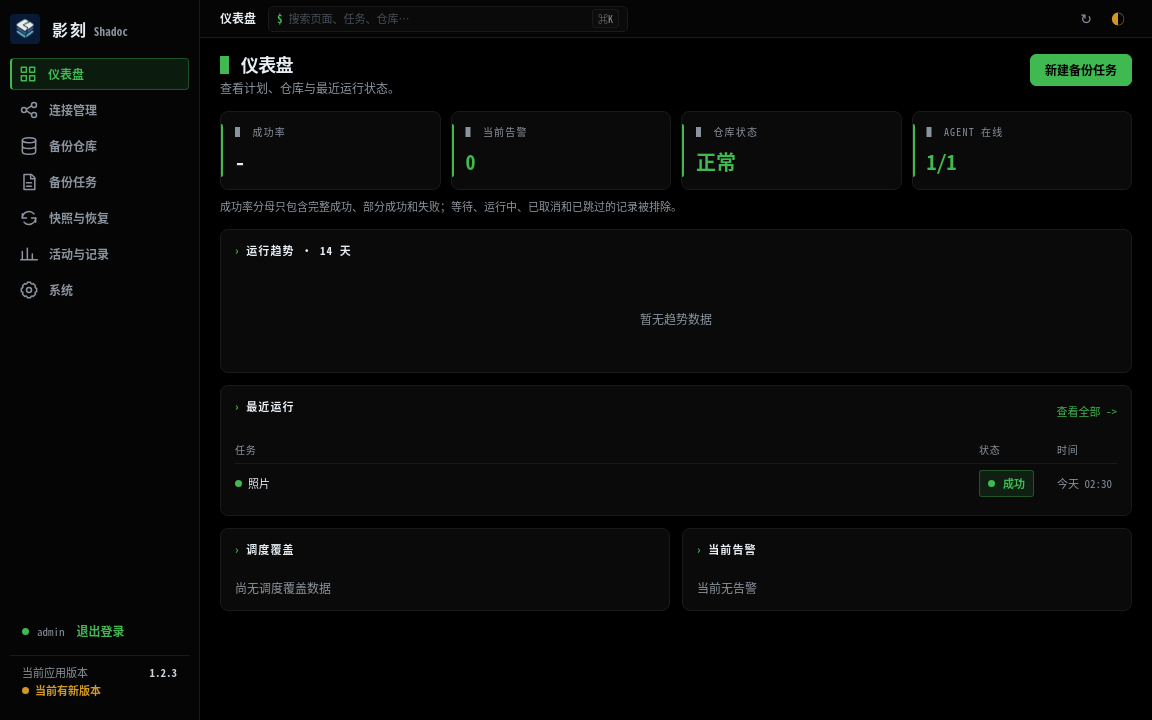
Test case: restic-control administration › confirms a managed Agent upgrade and verifies it through a tracked operation
Check: the heading "仪表盘" is shown, box [241,51,293,77]
Click the button "连接管理". click: (100, 110)
box: [10,94,189,126]
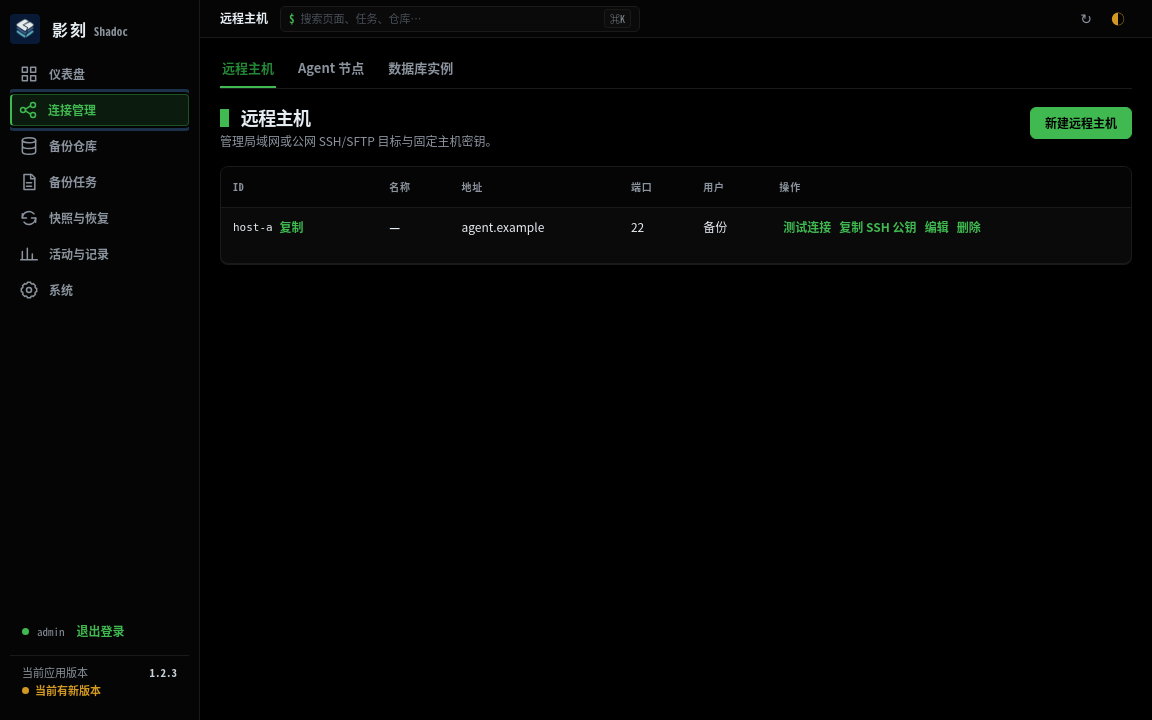
Click the tab "Agent 节点". click: (331, 69)
box: [296,50,366,88]
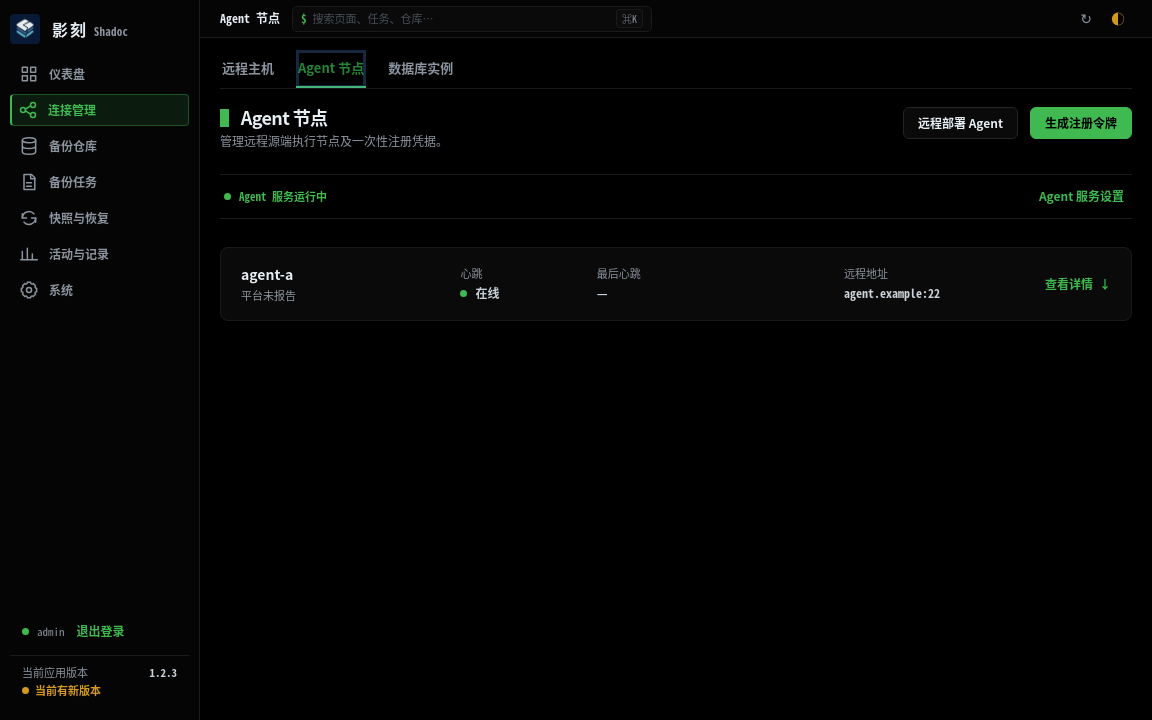
Click the button with aria-label "agent-a 查看详情". click: (267, 274)
box: [221,248,1131,320]
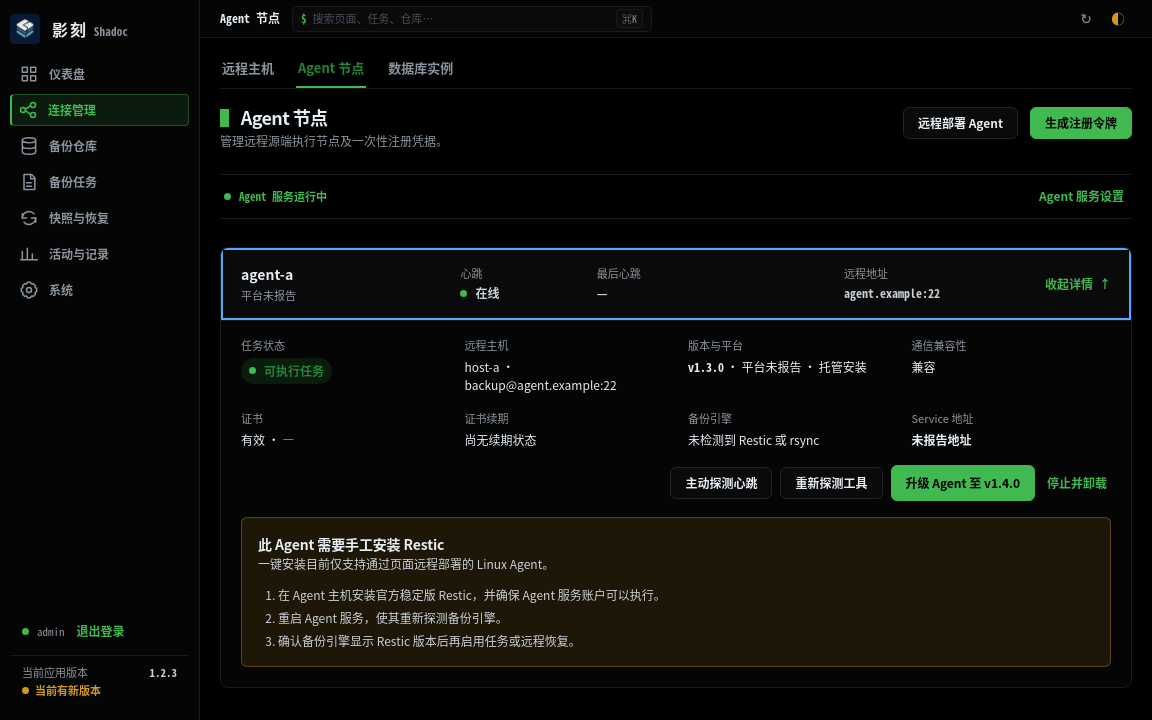
Click the button "升级 Agent 至 v1.4.0". click: (963, 483)
box: [890,465,1035,501]
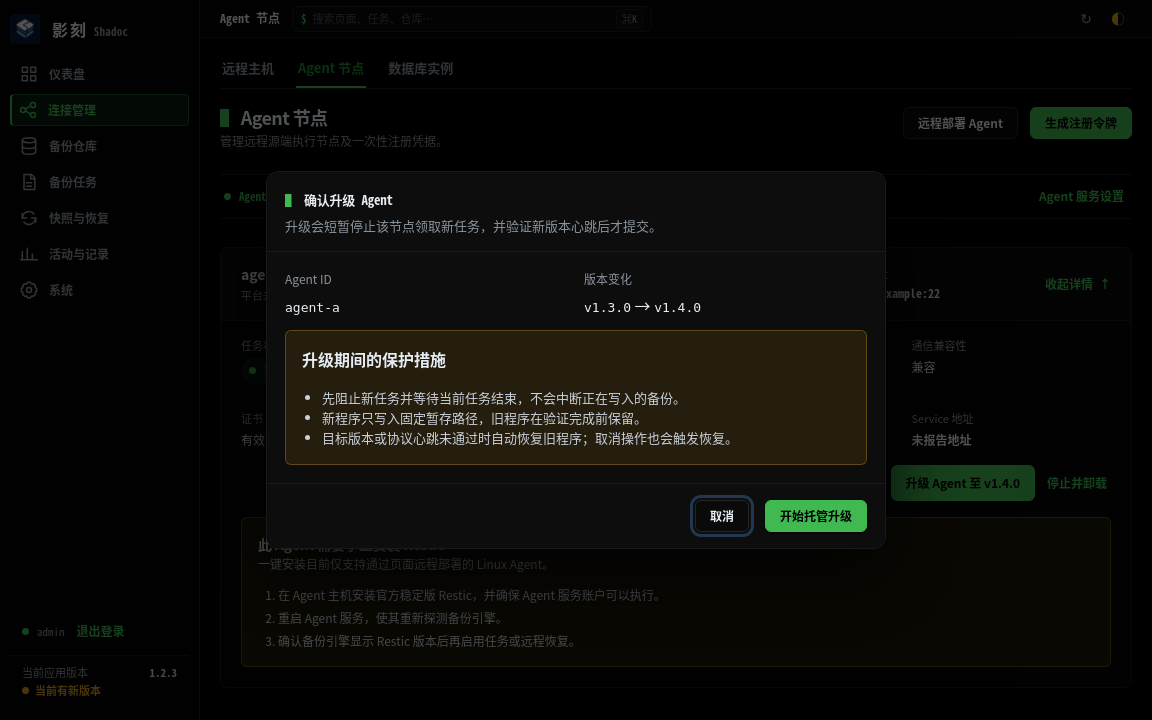
Check: the list item "新程序只写入固定暂存路径，旧程序在验证完成前保留。" is shown, box [322,408,647,427]
Click the button "开始托管升级". click: (816, 516)
box: [765,500,867,532]
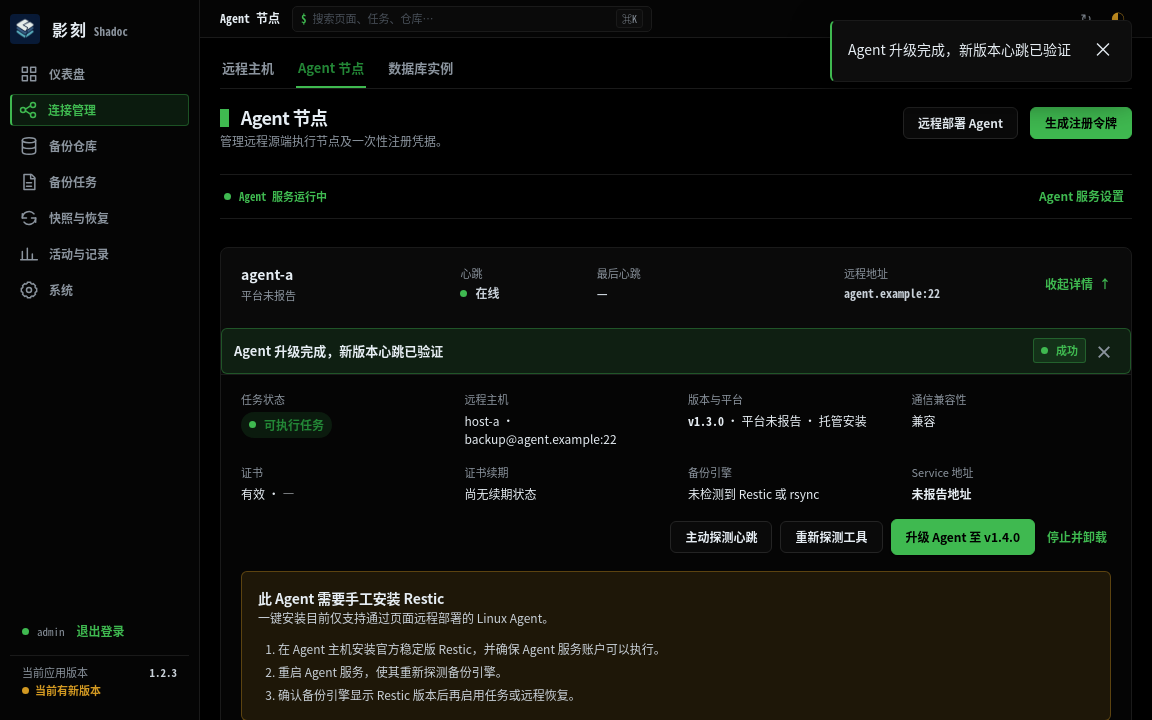
Check: the text "Agent 升级完成，新版本心跳已验证" is shown, box [848,39,1071,59]
Check: the message named "状态：成功" is shown, box [1033,338,1086,363]
